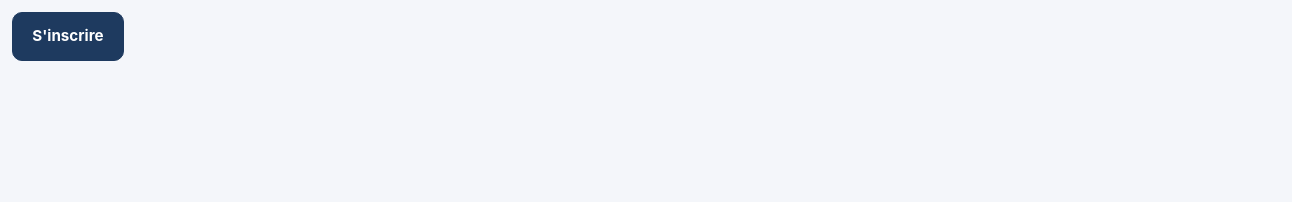
Test: RegistrationAction › clic sur S'inscrire › [F06.3] gère la double inscription (409) en affichant Se désinscrire
Click the button "S'inscrire": (68, 36) 12,12 -> 124,61
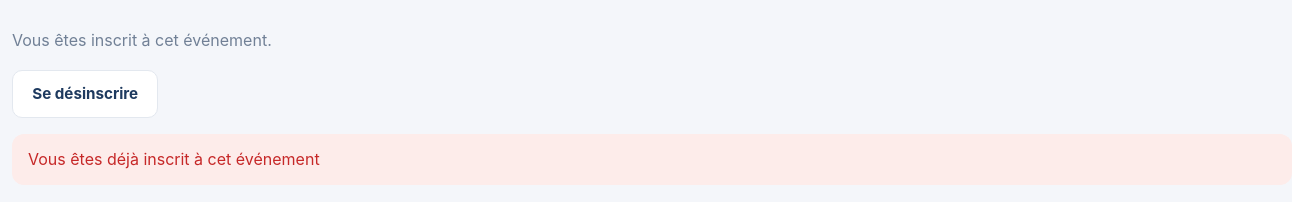
Expected: the message reads "Vous êtes déjà inscrit à cet événement", 28,149 -> 320,169
Expected: the button "Se désinscrire" is shown, 12,70 -> 158,118
